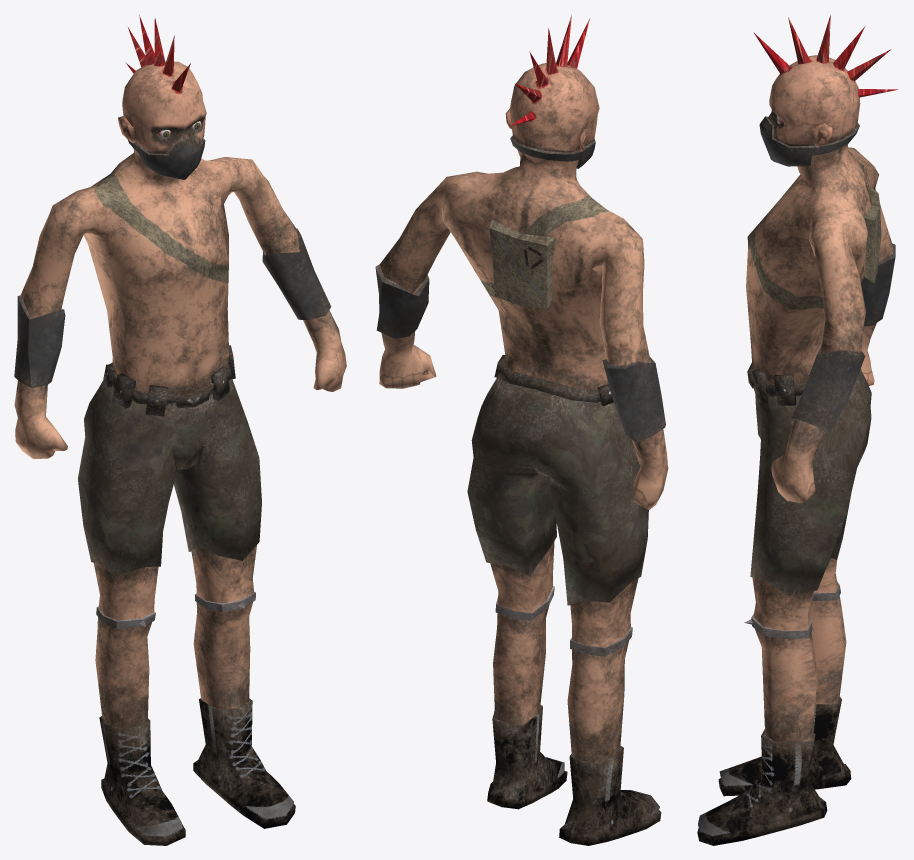
The model's file is Anim_ganar_1_npc2.0048.obj.
3 renders of one model, left to right at view 1: azimuth 30°, elevation 25°; view 2: azimuth 150°, elevation 25°; view 3: azimuth 270°, elevation 25°, orthographic. The views are drawn at different scales.
Parts seen in each view (by area): view 1: polySurface1; view 2: polySurface1; view 3: polySurface1.
Part boxes in pixels (x1=…): polySurface1: x1=14, y1=15, x2=346, y2=845; polySurface1: x1=375, y1=14, x2=668, y2=845; polySurface1: x1=697, y1=15, x2=898, y2=845.
Bounding box in the file's own units: 4.17 × 10.35 × 2.38.
2 materials, 2 textured.
